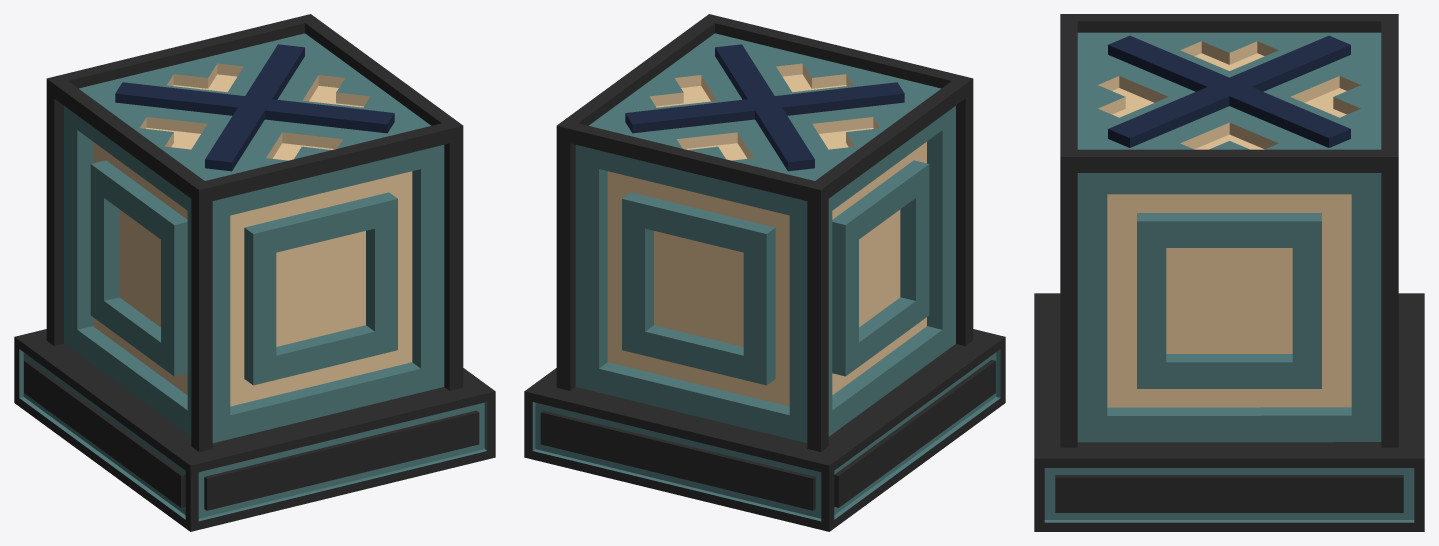
Rendered from UnmovableBlock.fbx.
The picture shows the model from 3 angles, left to right: view 1: azimuth 30°, elevation 25°; view 2: azimuth 150°, elevation 25°; view 3: azimuth 270°, elevation 25°; orthographic projection. The views are drawn at different scales.
Visible parts, largest first — view 1: Mesh; view 2: Mesh; view 3: Mesh.
Boxes of the visible parts, bbox=[...] form: Mesh: bbox=[14, 14, 495, 531]; Mesh: bbox=[524, 14, 1005, 531]; Mesh: bbox=[1034, 14, 1424, 531].
Size of the model in its own units: 0.9909 by 1.02 by 0.9909.
